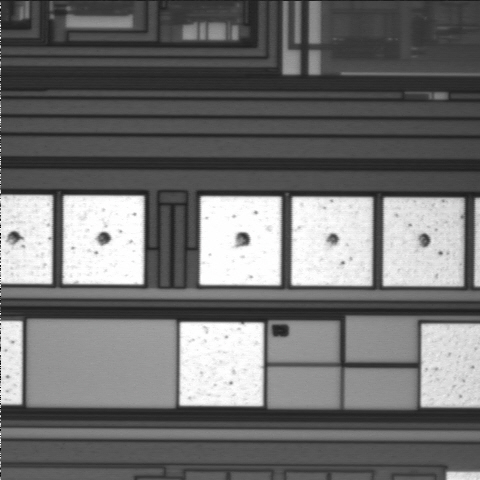pad: (291, 197, 373, 286), (63, 196, 144, 285), (200, 196, 281, 285), (179, 322, 264, 406), (383, 198, 464, 286)
